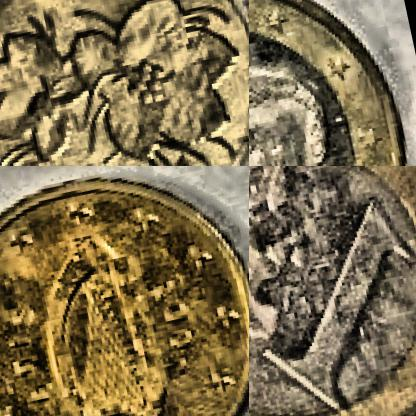coin: (0, 166, 248, 415), (249, 166, 415, 415), (0, 0, 248, 165), (249, 0, 415, 165)
